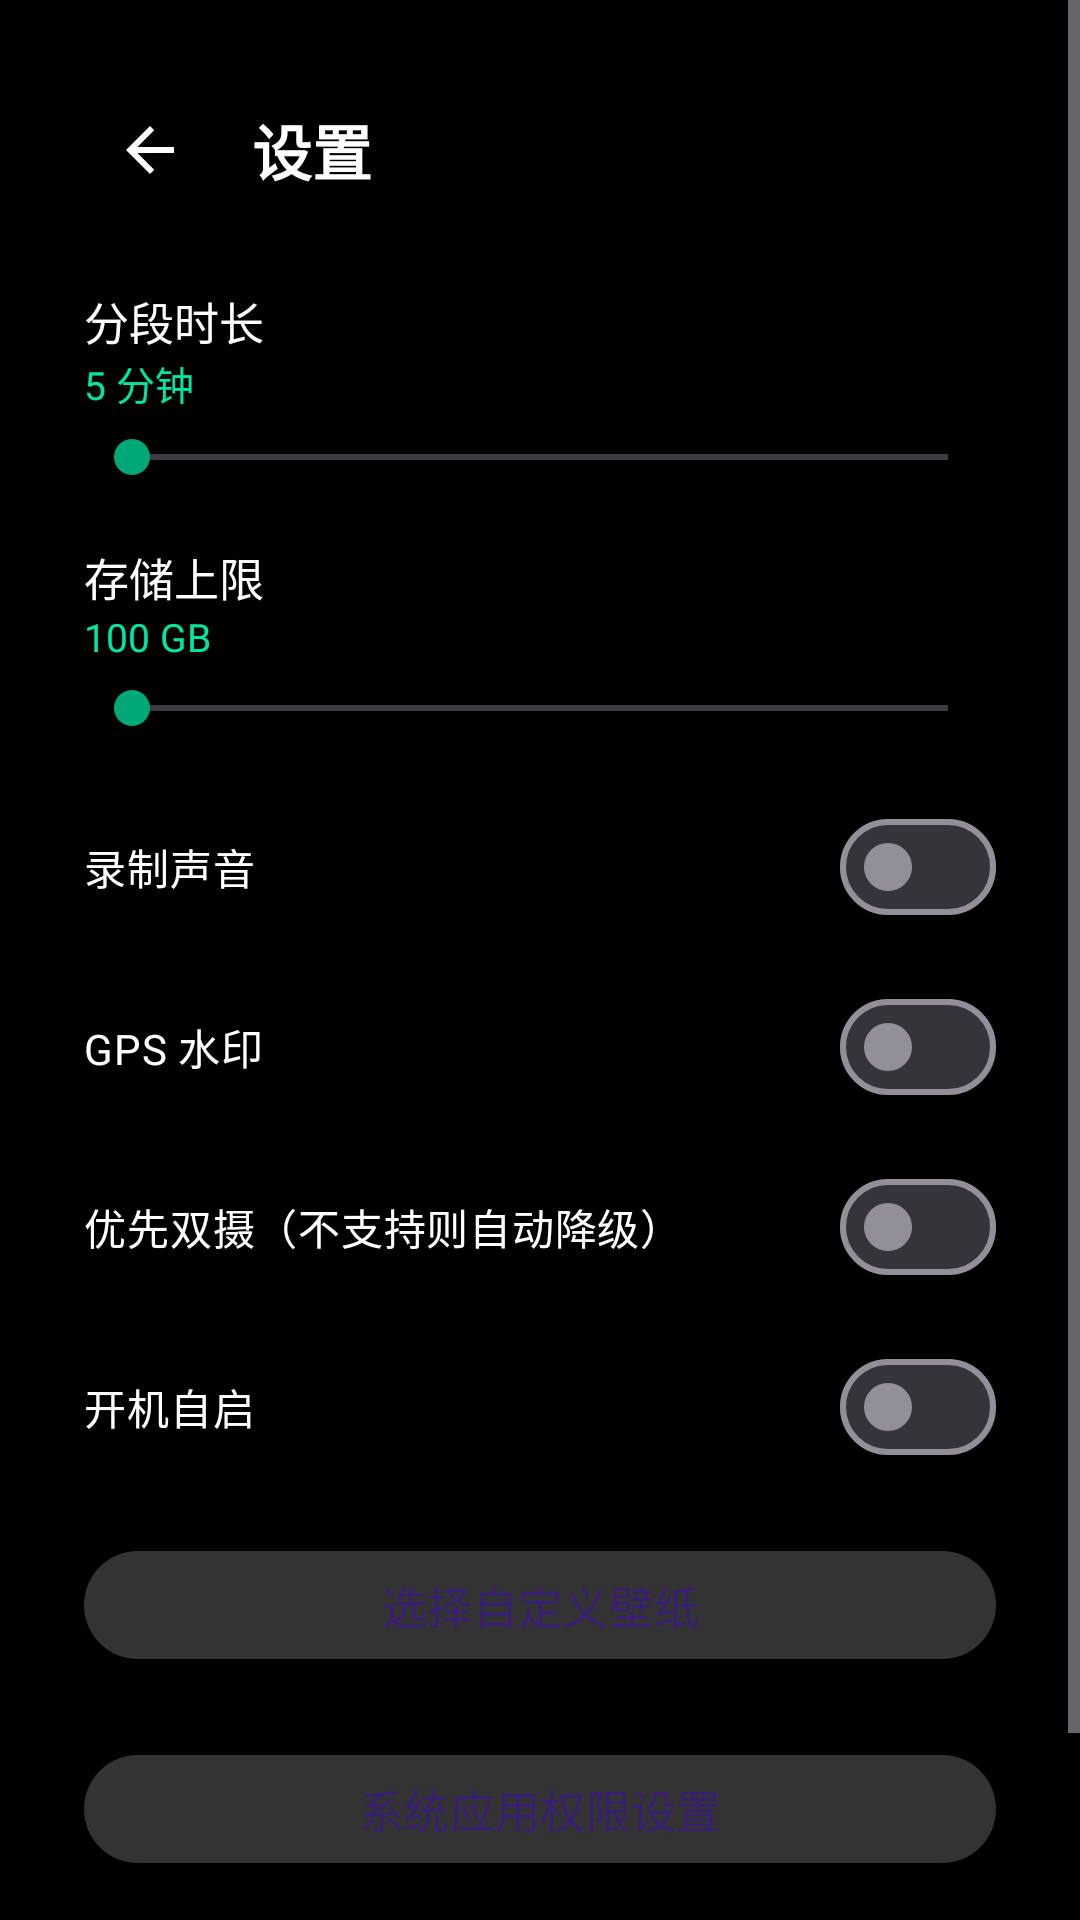

Icon bounding boxes for this 1080px x 1920px phone screenshot, format (x1, y1, x2, y2):
返回: (126, 126, 174, 174)
